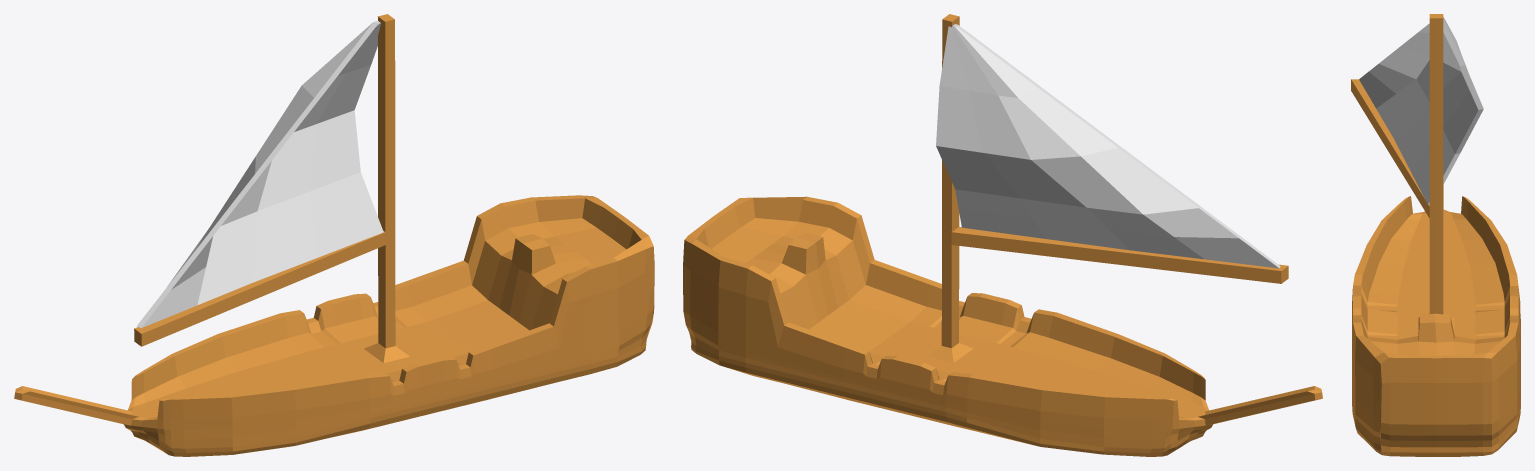
Rendered from cutter.glb.
3 renders of one model, left to right at view 1: azimuth 30°, elevation 25°; view 2: azimuth 150°, elevation 25°; view 3: azimuth 270°, elevation 25°, orthographic. The views are drawn at different scales.
Parts seen in each view (by area): view 1: Cube; view 2: Cube; view 3: Cube.
Part boxes in pixels (x1,y1,x2,y2): Cube: [14, 14, 654, 456]; Cube: [683, 14, 1322, 456]; Cube: [1351, 14, 1520, 456].
Size of the model in its own units: 23.08 by 13.72 by 6.04.
